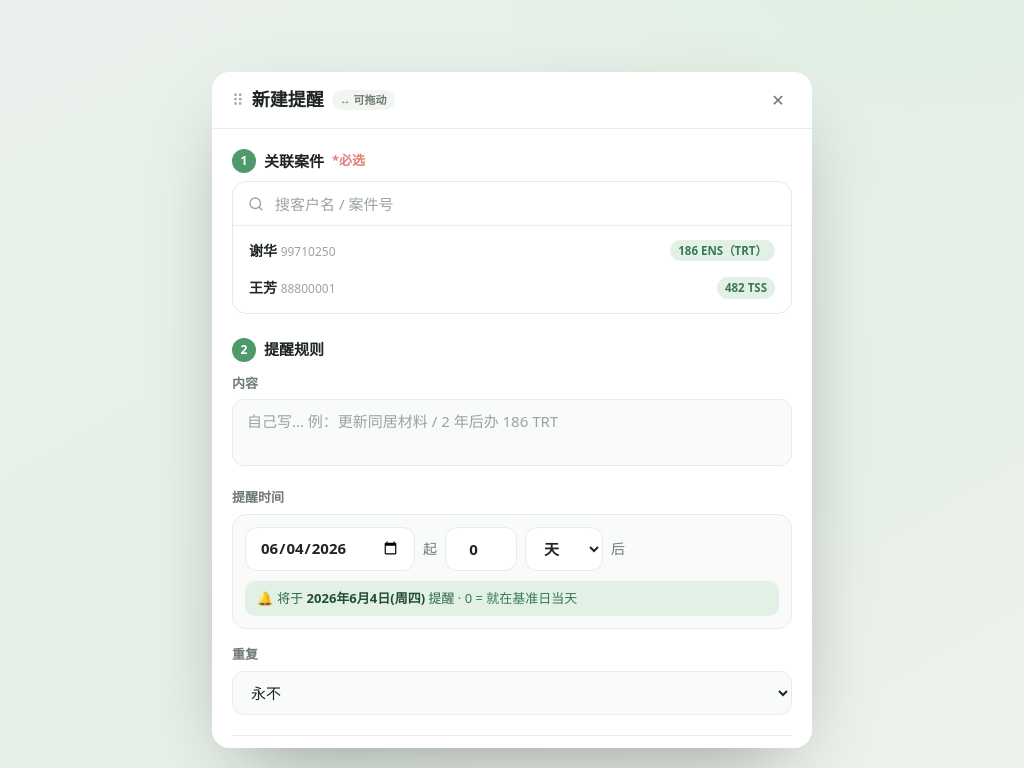
Test: ReminderPanel（新建提醒：必选已有案件 + 基准日 + 可拖动） › 实际提醒日预览随 基准日/数字/单位 实时更新（本地日期）
Replace the text in the number field named "偏移数字" with "2" at (481, 548), box [445,526,517,570]
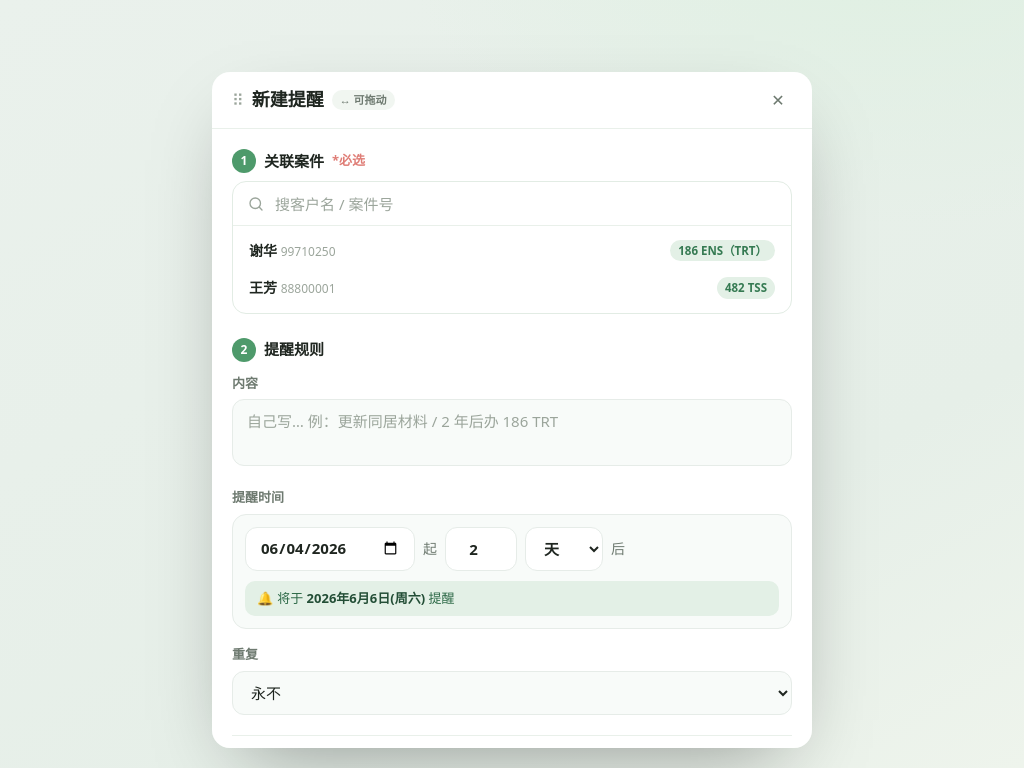
Select "年" in the dropdown named "偏移单位" at (564, 548), box [525,526,603,570]
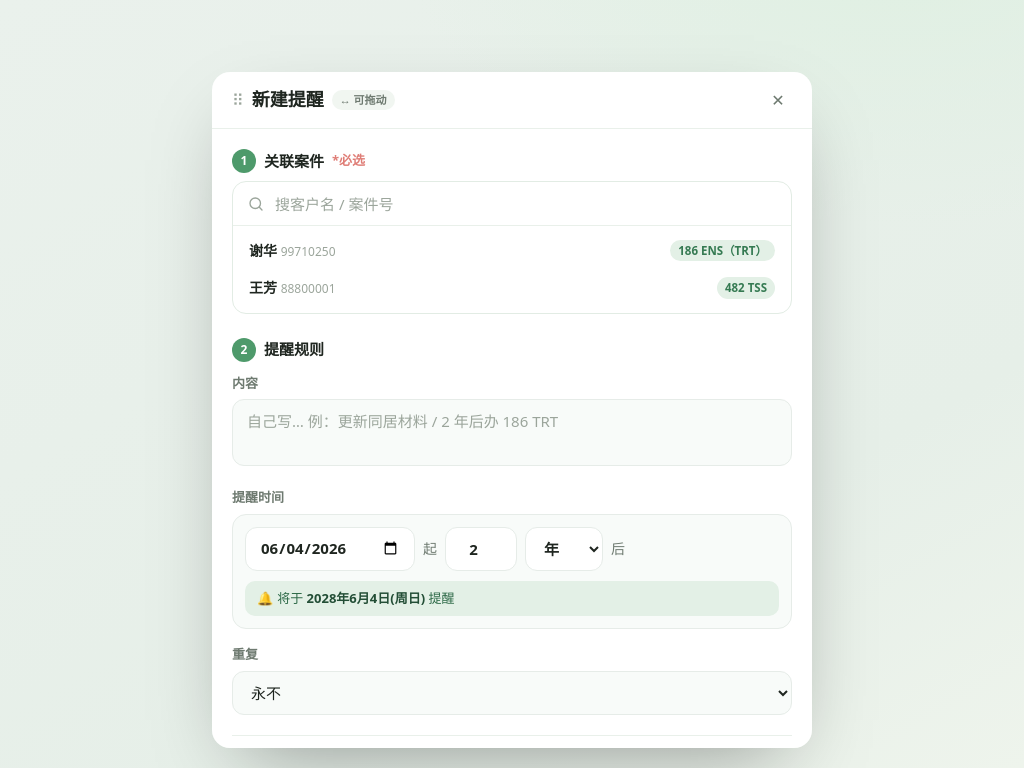
expect the text "将于" does not show "就在基准日当天": met
expect the text "🔔将于 2028年6月4日(周日) 提醒" is shown: met, box [245,580,779,616]
Note: 改基准日 → 预览跟随（2026-01-31 + 2 月 → 月末夹取 2026-03-31）
Type "2026-01-31" into the date field named "基准日" at (330, 548), box [245,526,415,570]
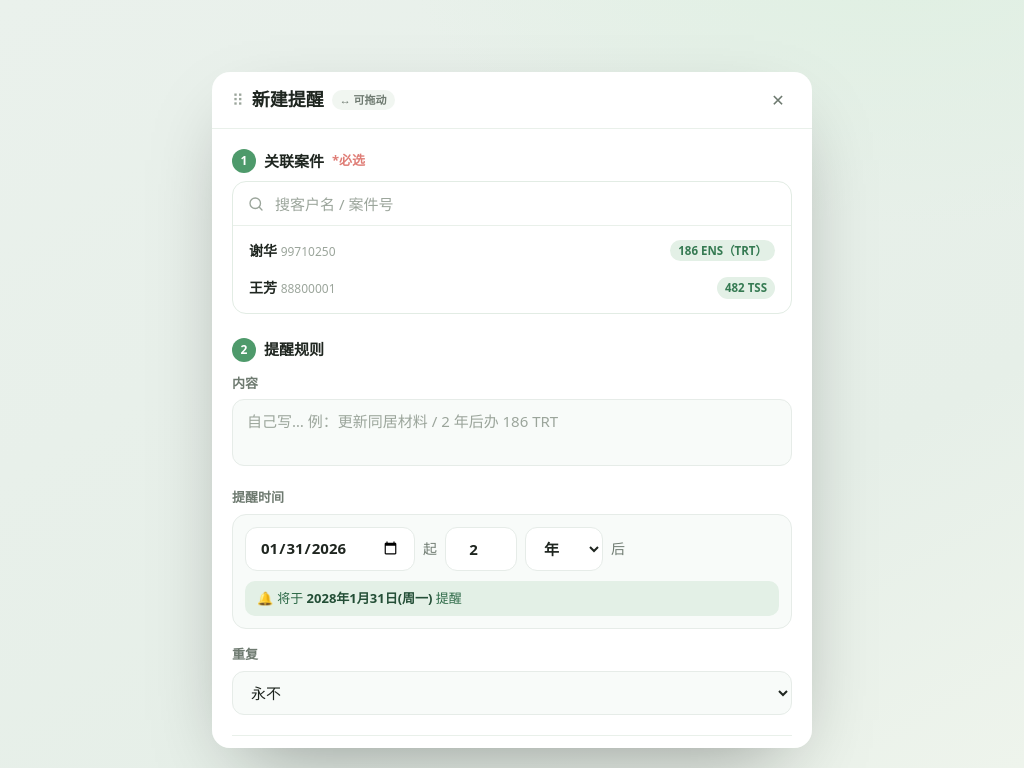
Select "月" in the dropdown named "偏移单位" at (564, 548), box [525,526,603,570]
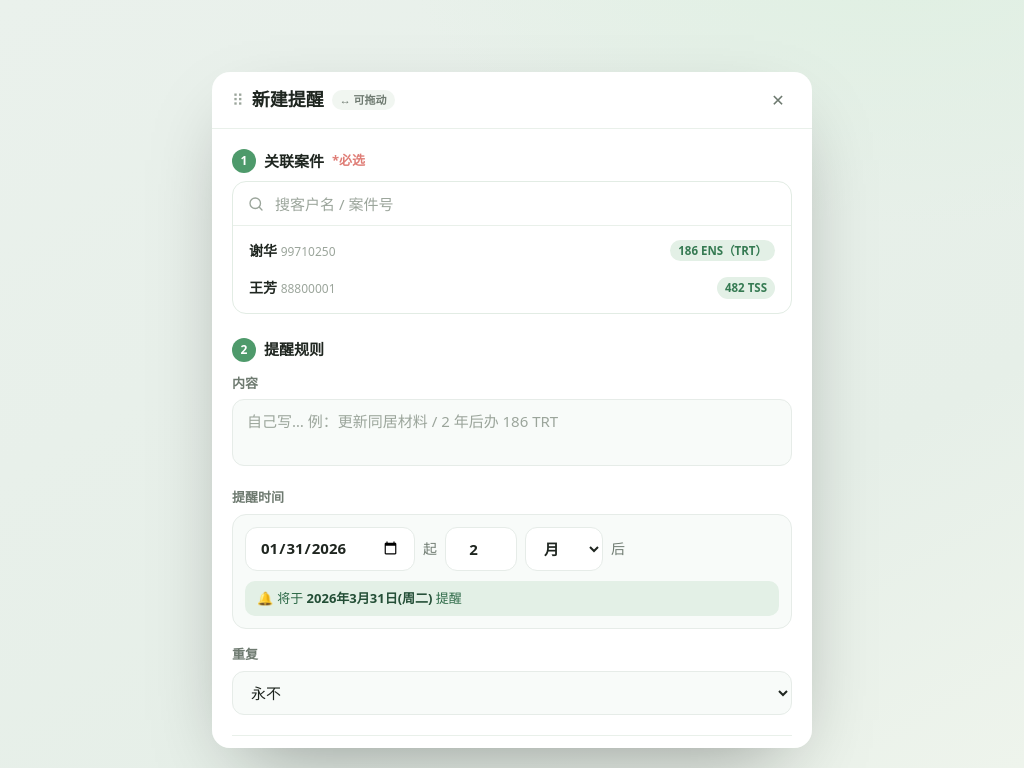
expect the text "🔔将于 2026年3月31日(周二) 提醒" is shown: met, box [245,580,779,616]
